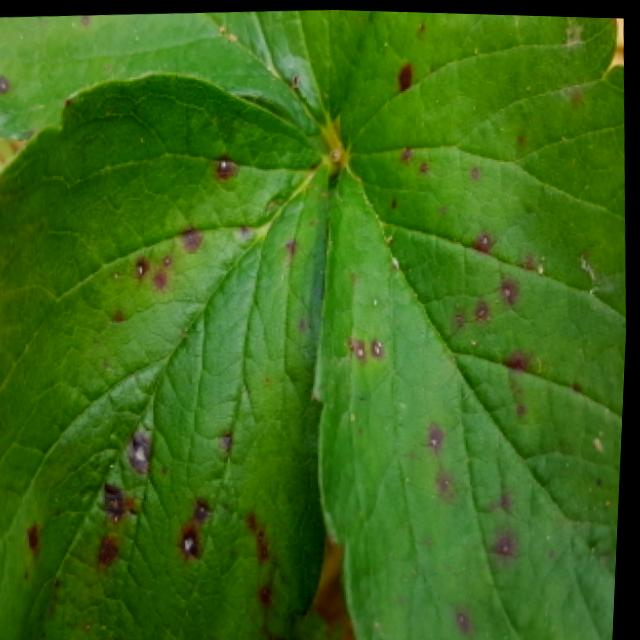Leaf Spot: (310, 9, 629, 640), (0, 67, 337, 640), (0, 7, 371, 155)
